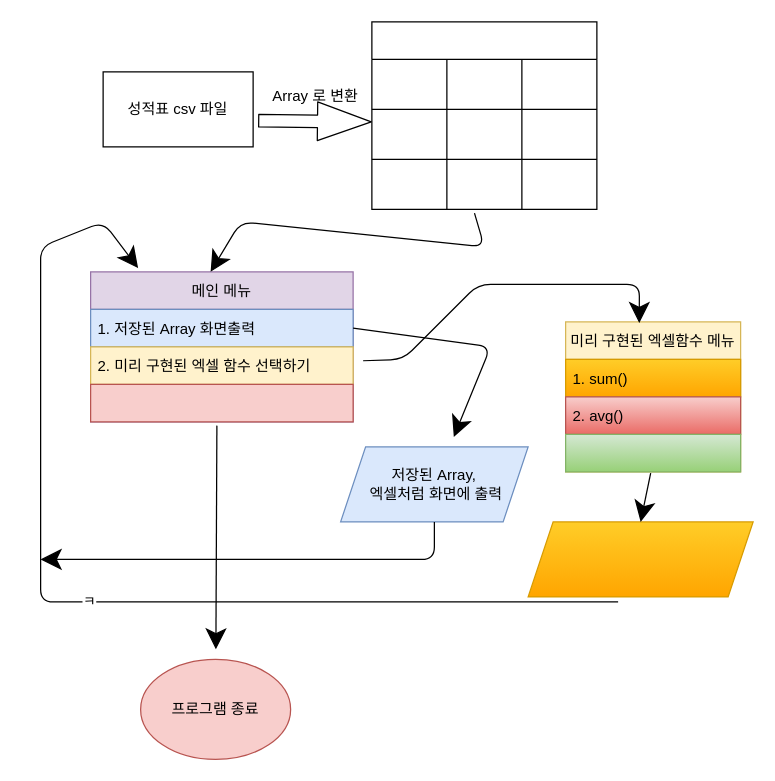
The diagram is 775 pixels wide and 781 high, and some of its shapes have lost their labels. Here are the shapes that lost their labels. From the top down, the centre of each, then its label:
At (484,115): "CSV 파일이 저장된 Array".
At (221,402): "3. 프로그램 종료".
At (652,452): "3. etc...".
At (640,559): "선택된 함수 결과 보여주기".
